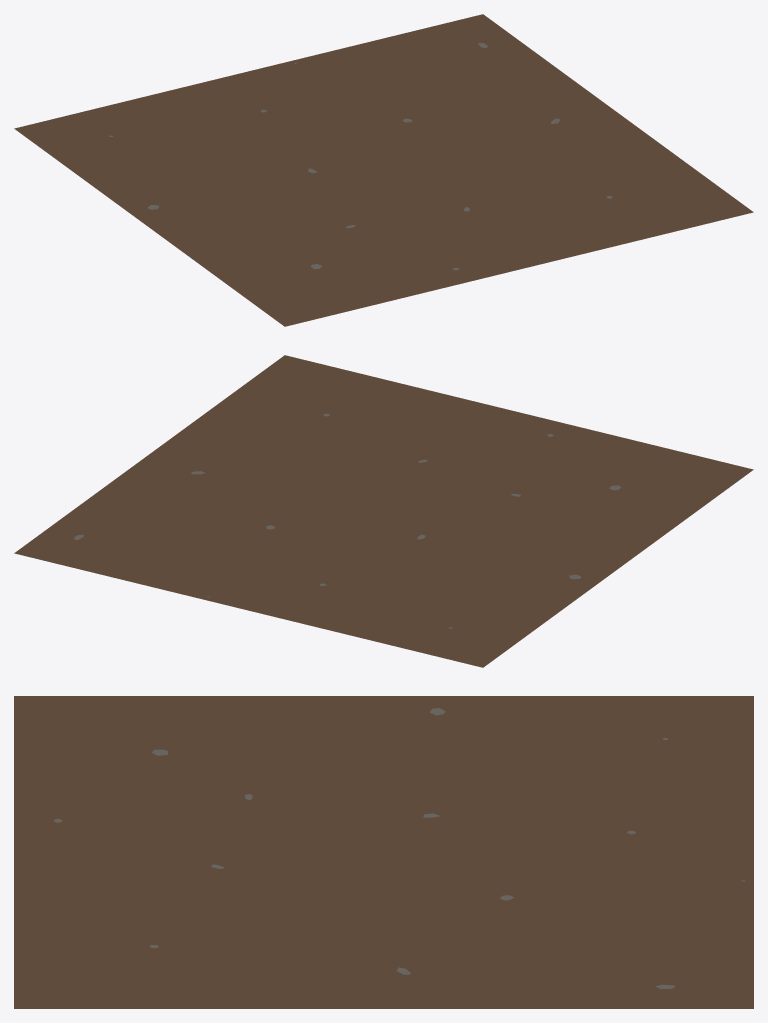
Rendered from 20C_BG_ground_10M.fbx.
The picture shows the model from 3 angles, top to bottom: view 1: azimuth 30°, elevation 25°; view 2: azimuth 150°, elevation 25°; view 3: azimuth 270°, elevation 25°; orthographic projection. The views are drawn at different scales.
Parts seen in each view (by area): view 1: 20C_BG_ground_10M; view 2: 20C_BG_ground_10M; view 3: 20C_BG_ground_10M.
Part boxes in pixels (x1,y1,x2,y2): 20C_BG_ground_10M: (14,14,753,326); 20C_BG_ground_10M: (14,355,753,667); 20C_BG_ground_10M: (14,696,753,1008).
Size of the model in its own units: 100 by 0.0501 by 100.
1 material, 1 textured.
